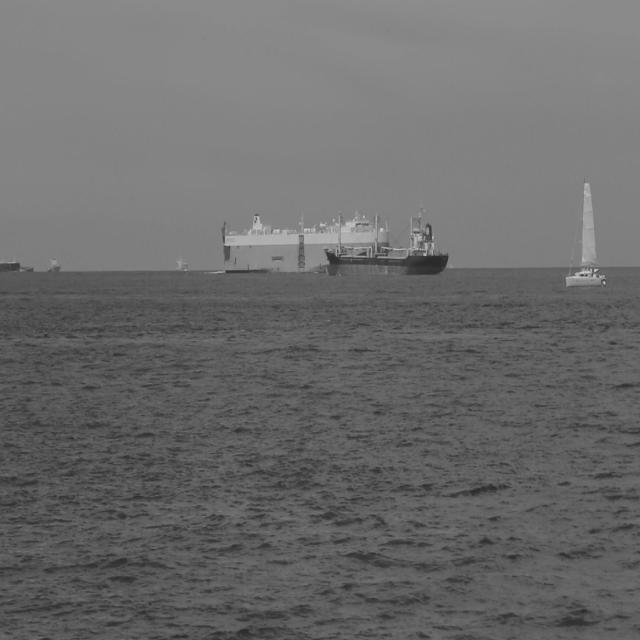ship: (220, 208, 390, 276), (320, 200, 450, 278), (564, 178, 607, 288), (0, 256, 21, 274), (46, 252, 60, 274), (20, 263, 34, 274)
